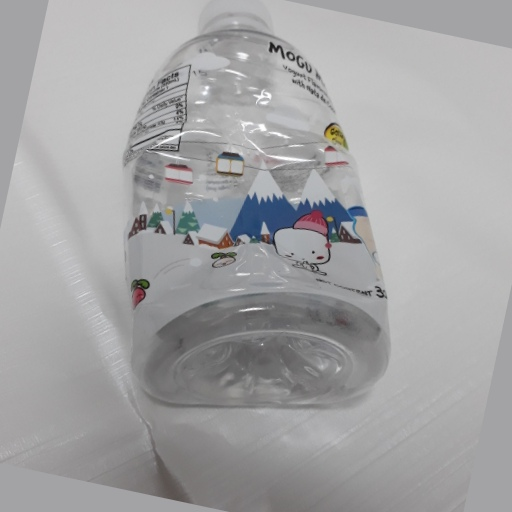Plastic_0: (123, 1, 393, 406)
